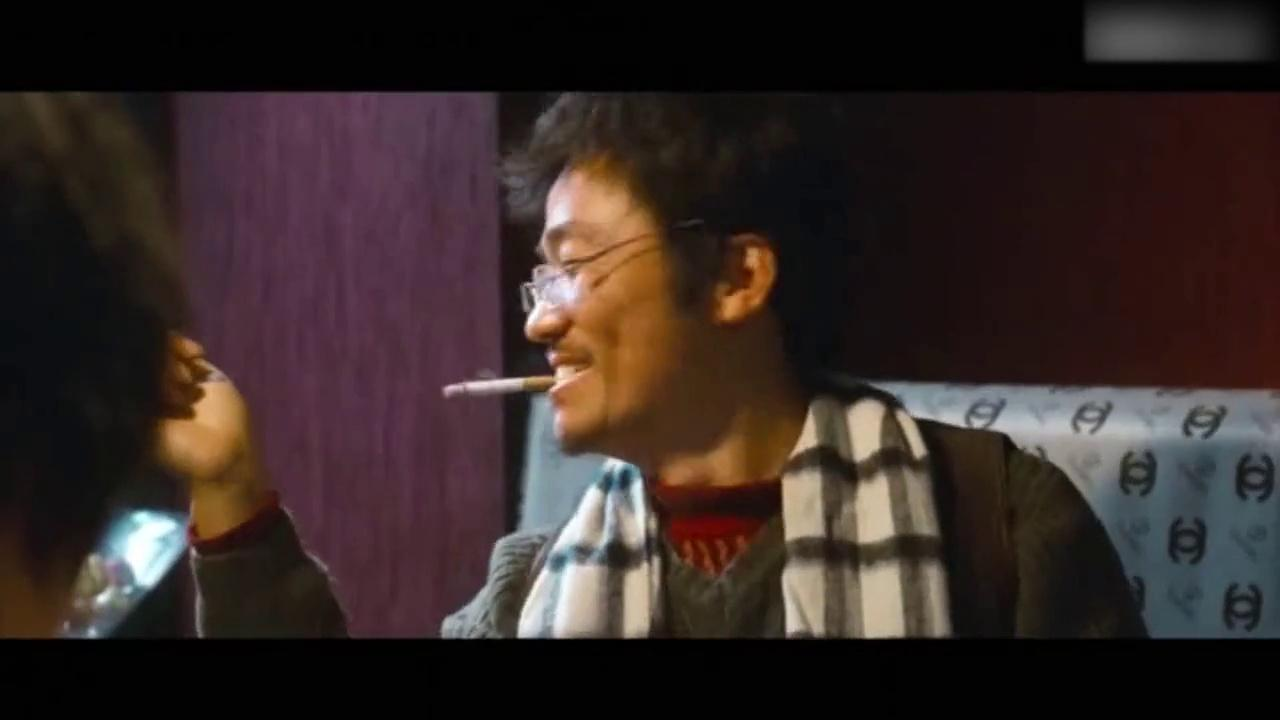smoke: (442, 372, 559, 398)
